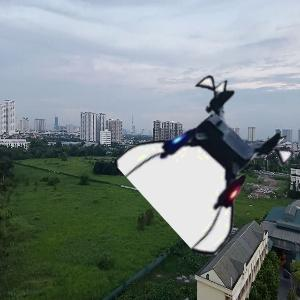drone: (137, 85, 288, 236)
